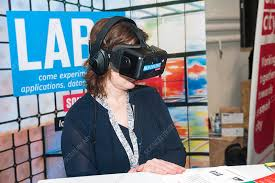oculus: (107, 44, 169, 80)
